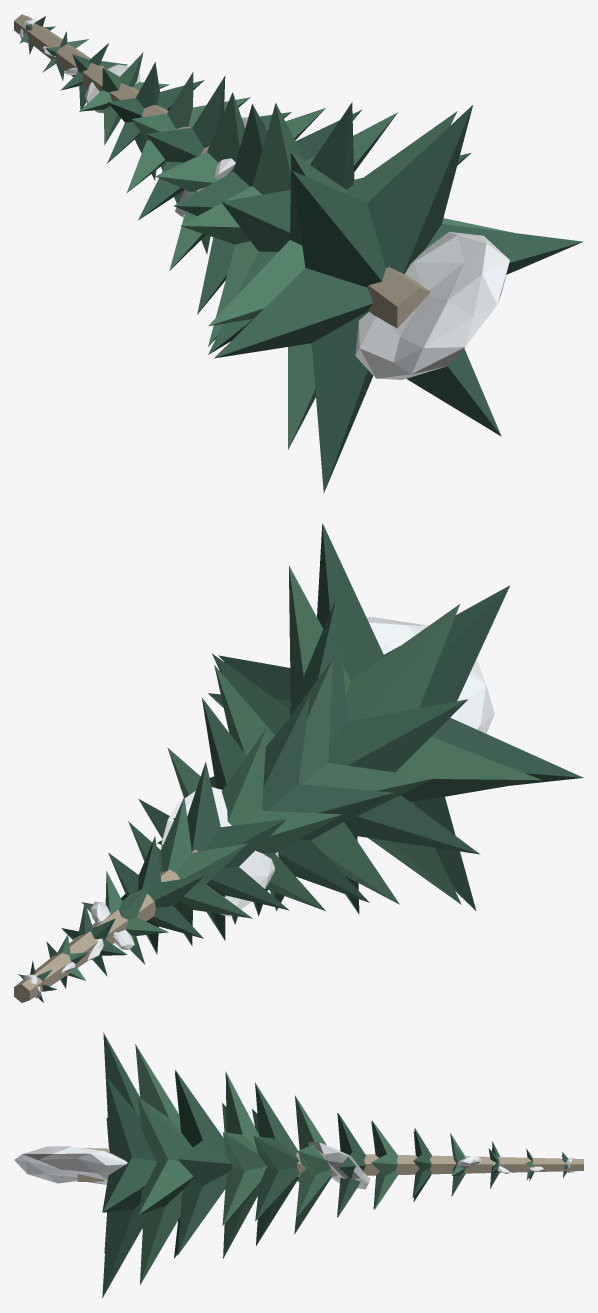
Rendered from TreeConiferB2.fbx.
The picture shows the model from 3 angles, top to bottom: view 1: azimuth 30°, elevation 25°; view 2: azimuth 150°, elevation 25°; view 3: azimuth 270°, elevation 25°; orthographic projection. The views are drawn at different scales.
Visible parts, largest first — view 1: M_Tree_Pine_Dark, M_Tree_Pine_Mid, M_Tree_Snow, M_Tree_PaleWood; view 2: M_Tree_Pine_Dark, M_Tree_Pine_Mid, M_Tree_Snow, M_Tree_PaleWood; view 3: M_Tree_Pine_Dark, M_Tree_Pine_Mid, M_Tree_Snow, M_Tree_PaleWood.
Part boxes in pixels (box(x1,y1,x2,y2)): M_Tree_Pine_Dark: box(19, 16, 583, 493); M_Tree_Pine_Mid: box(42, 31, 513, 449); M_Tree_Snow: box(19, 19, 509, 379); M_Tree_PaleWood: box(14, 14, 430, 328); M_Tree_Pine_Dark: box(18, 523, 583, 1002); M_Tree_Pine_Mid: box(46, 566, 541, 988); M_Tree_Snow: box(24, 617, 494, 998); M_Tree_PaleWood: box(14, 849, 198, 1002); M_Tree_Pine_Dark: box(102, 1032, 568, 1297); M_Tree_Pine_Mid: box(135, 1044, 534, 1284); M_Tree_Snow: box(14, 1141, 575, 1189); M_Tree_PaleWood: box(77, 1148, 583, 1181).
Bounding box in the file's own units: 1891 × 1728 × 3998.
